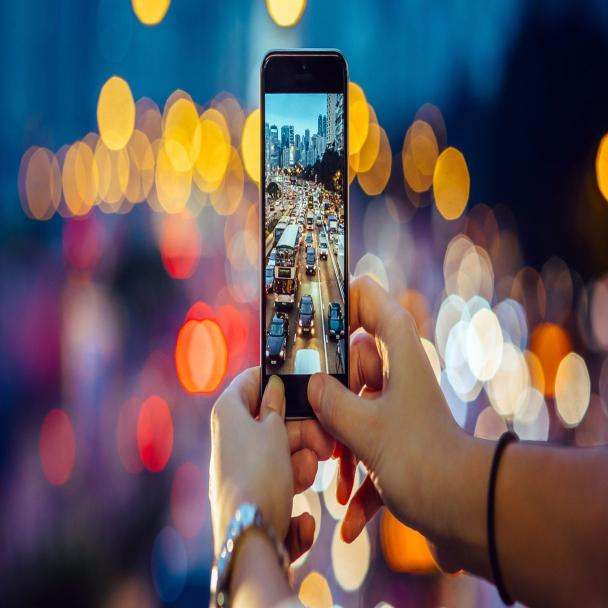Handphone: (260, 50, 352, 421)
